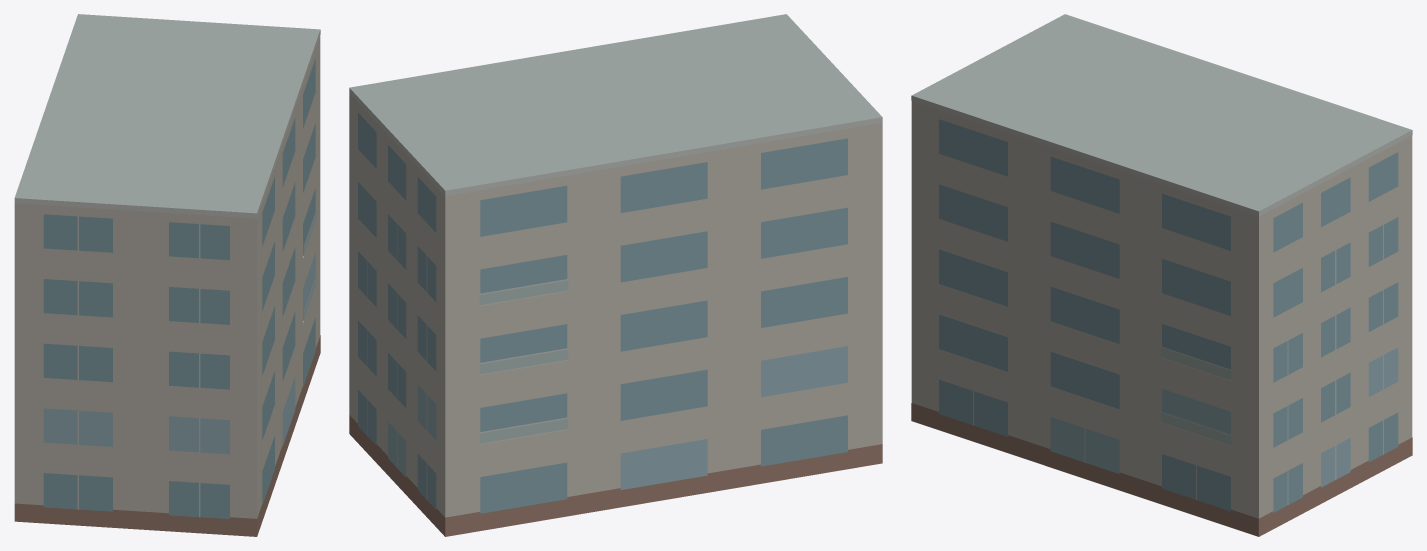
Rendered from survey-upis-32622816.glb.
3 renders of one model, left to right at view 1: azimuth 30°, elevation 25°; view 2: azimuth 150°, elevation 25°; view 3: azimuth 270°, elevation 25°, orthographic. The views are drawn at different scales.
Visible parts, largest first — view 1: survey-upis-32622816.tmp; view 2: survey-upis-32622816.tmp; view 3: survey-upis-32622816.tmp.
Part boxes in pixels (<box>): survey-upis-32622816.tmp: <box>14,14,320,536</box>; survey-upis-32622816.tmp: <box>349,14,882,536</box>; survey-upis-32622816.tmp: <box>911,14,1412,536</box>.
Size of the model in its own units: 19.85 by 15.25 by 21.28.
